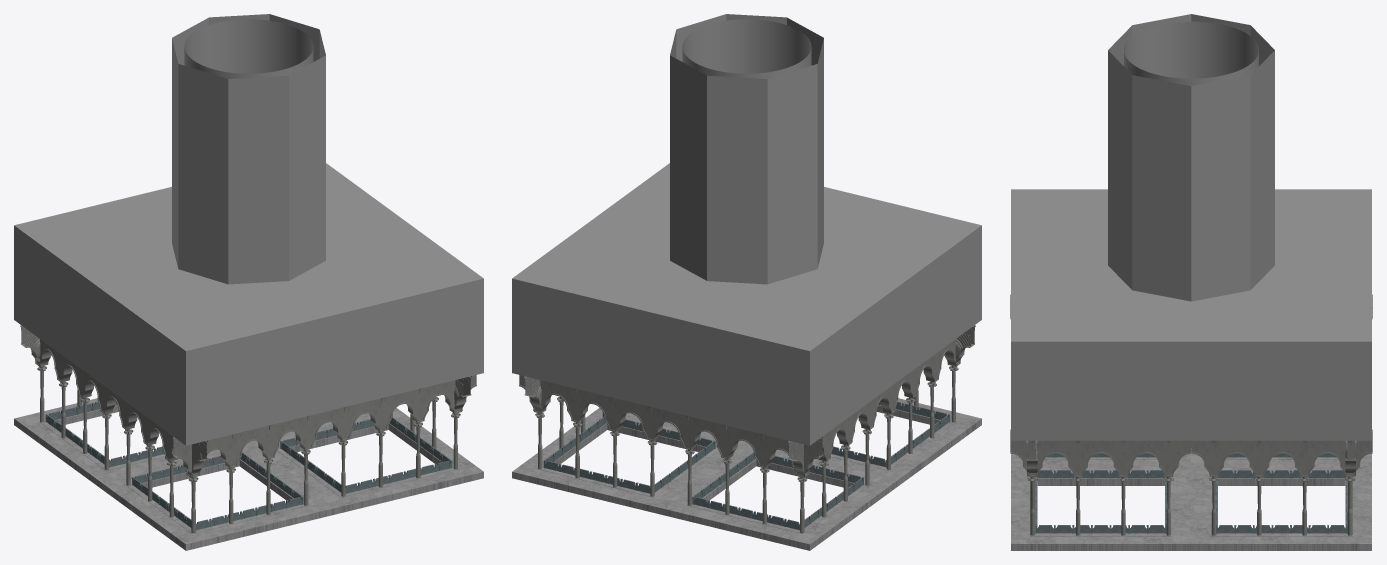
File: TextureTest1.FBX
The picture shows the model from 3 angles, left to right: view 1: azimuth 30°, elevation 25°; view 2: azimuth 150°, elevation 25°; view 3: azimuth 270°, elevation 25°; orthographic projection. The views are drawn at different scales.
Parts seen in each view (by area): view 1: Center_Floor001; view 2: Center_Floor001; view 3: Center_Floor001.
Part boxes in pixels (x1,y1,x2,y2): Center_Floor001: [14, 14, 483, 550]; Center_Floor001: [512, 14, 981, 550]; Center_Floor001: [1010, 14, 1372, 550].
Bounding box in the file's own units: 1382 × 1787 × 1382.
4 materials, 3 textured.
